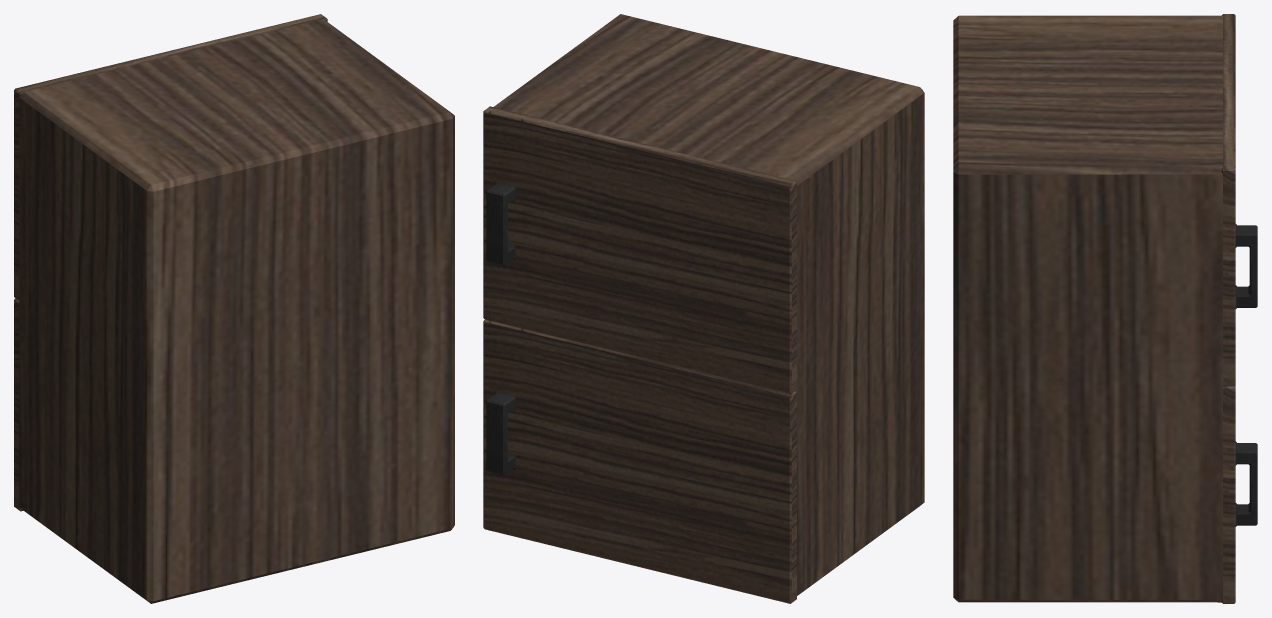
The model's file is Cabinet.fbx.
3 renders of one model, left to right at view 1: azimuth 30°, elevation 25°; view 2: azimuth 150°, elevation 25°; view 3: azimuth 270°, elevation 25°, orthographic. The views are drawn at different scales.
Visible parts, largest first — view 1: Cabinet, polySurface2, polySurface1; view 2: Cabinet, polySurface2, polySurface1; view 3: Cabinet, polySurface2, polySurface1.
Part boxes in pixels (bbox=[...]): Cabinet: bbox=[19, 19, 454, 603]; polySurface2: bbox=[14, 14, 327, 300]; polySurface1: bbox=[14, 298, 23, 511]; Cabinet: bbox=[493, 14, 924, 595]; polySurface2: bbox=[483, 106, 796, 394]; polySurface1: bbox=[483, 320, 796, 603]; Cabinet: bbox=[953, 15, 1223, 602]; polySurface2: bbox=[1221, 14, 1257, 386]; polySurface1: bbox=[1221, 385, 1257, 603].
Size of the model in its own units: 49.69 by 64.54 by 40.95.
Materials: 1 (1 with a texture image).
